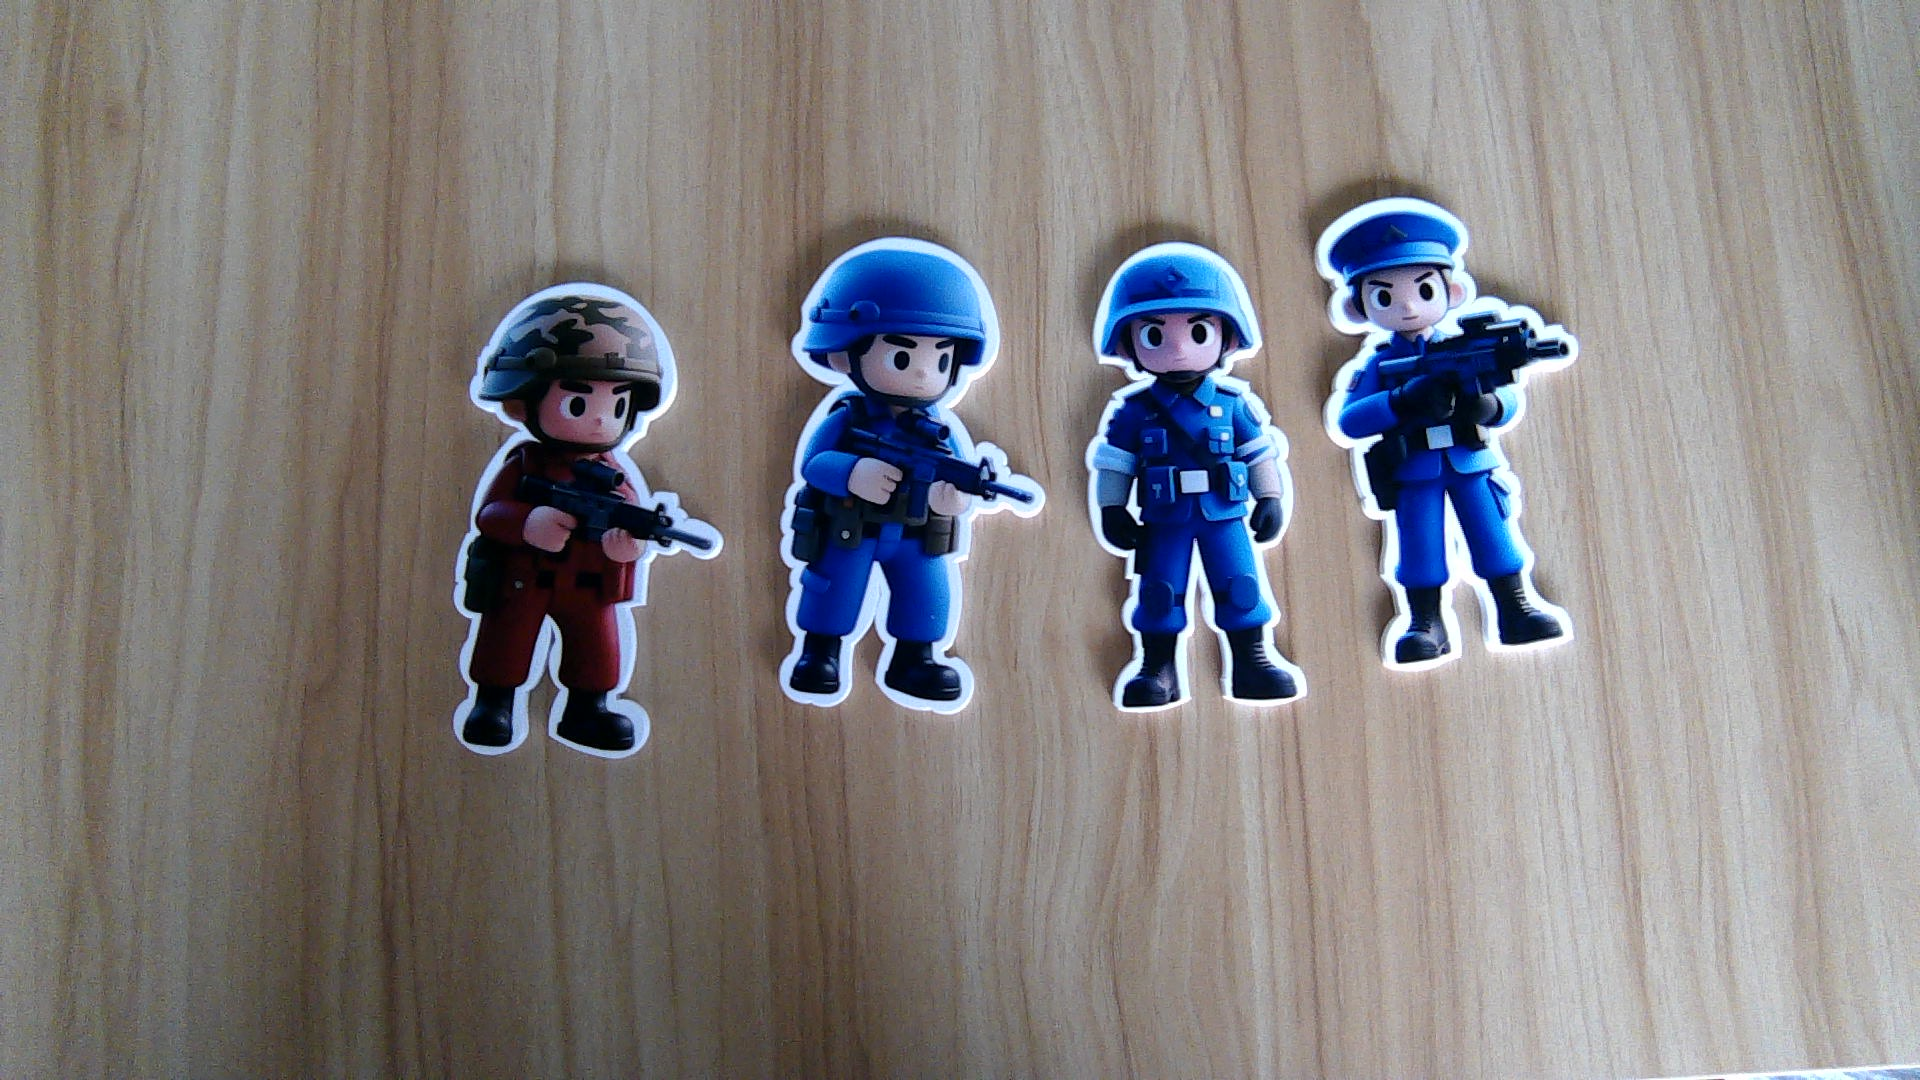敌人1: (446, 447, 723, 756)
敌人2: (1316, 327, 1582, 673), (770, 402, 1040, 713), (1083, 384, 1307, 717)
